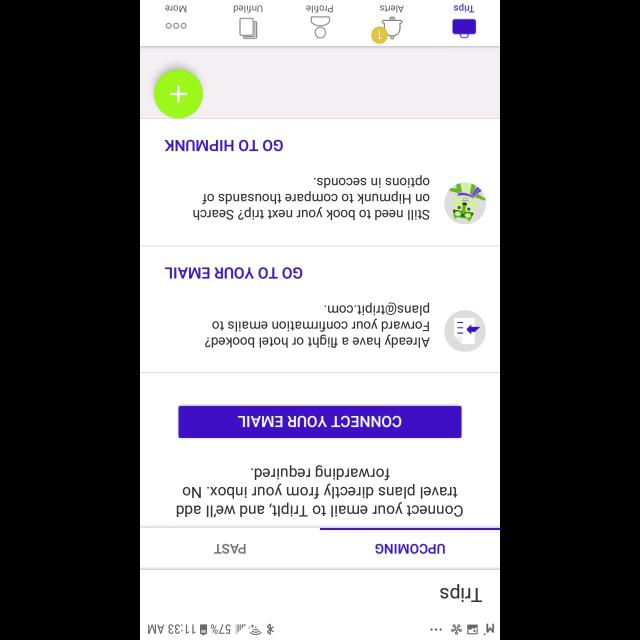icon: (154, 70, 203, 119), (372, 16, 402, 44), (310, 16, 330, 40), (452, 20, 476, 38), (239, 17, 257, 39), (166, 22, 187, 30)
image: (443, 182, 485, 224), (443, 310, 485, 352)
text: (177, 465, 463, 517), (193, 175, 429, 221), (204, 302, 430, 348), (165, 267, 303, 279), (165, 140, 283, 152), (375, 542, 445, 554), (440, 582, 482, 602), (214, 544, 246, 554), (234, 5, 262, 13), (306, 5, 332, 13), (380, 5, 404, 13), (166, 5, 187, 13), (454, 4, 474, 12)
textbutton: (178, 406, 462, 438)
uppertaskbar: (140, 623, 500, 639)
